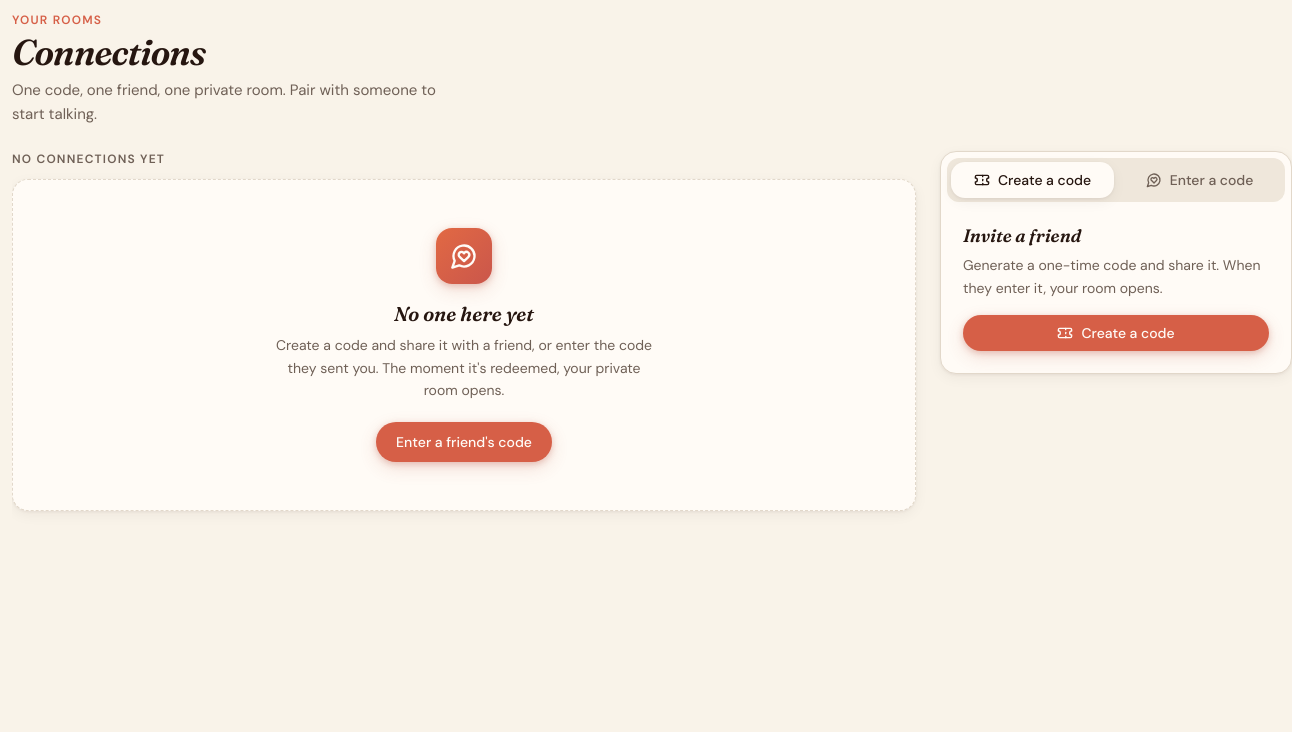
Test case: ConnectionsPage pairing flows › creates a connection code and displays it for sharing
This screenshot has width=1292, height=732.
Step 1. Click the button "Create a code" → (1116, 333), box [963, 315, 1269, 351]
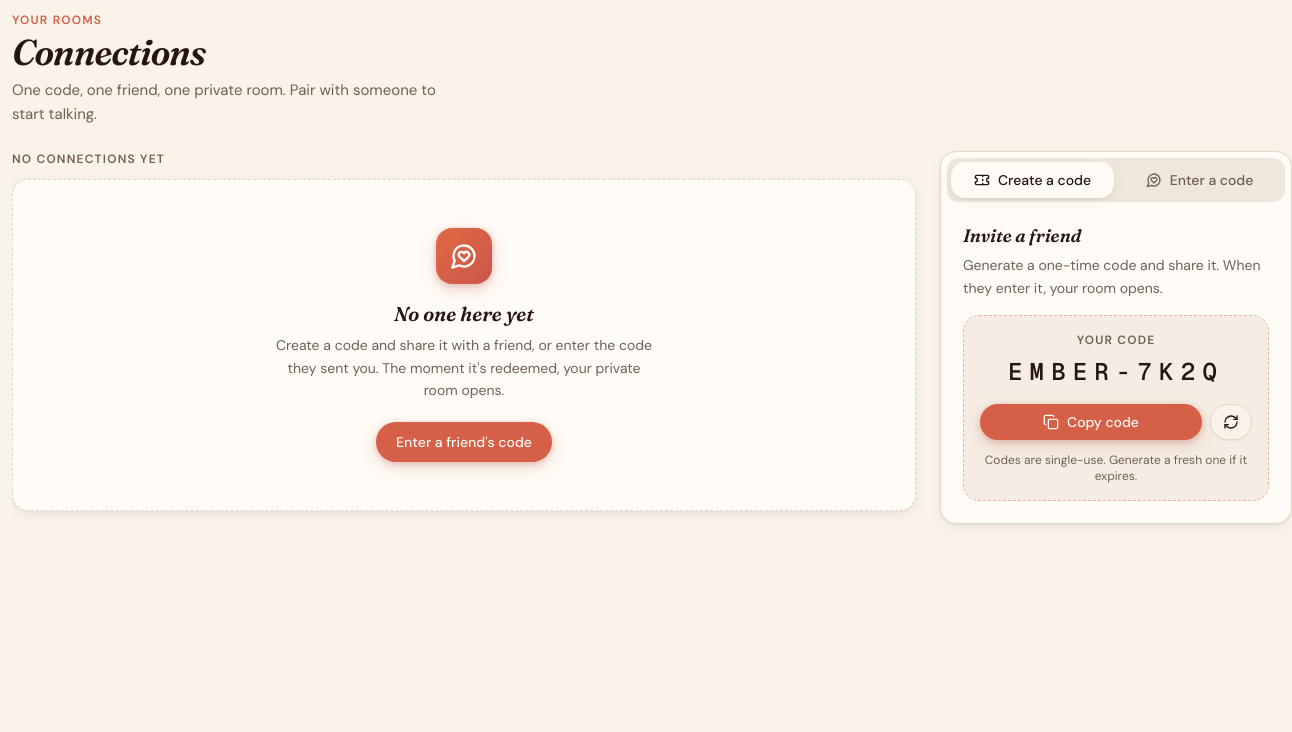
Check: the text "EMBER-7K2Q" is shown, box [1008, 358, 1224, 385]
Check: the button "Copy code" is shown, box [980, 404, 1202, 440]
